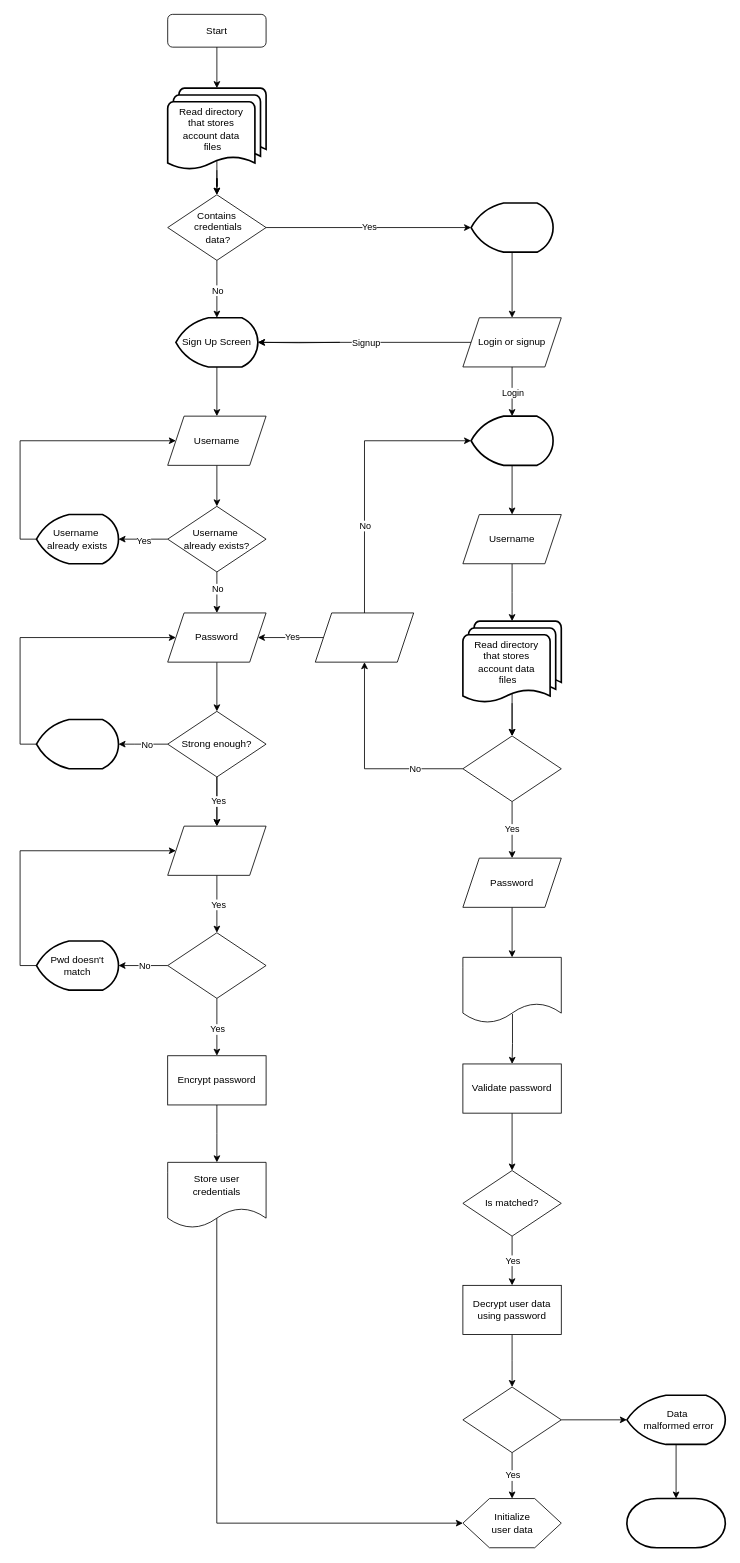
Image size: 740x1563. Some labels were removed from this diagram. The centre of each missing label's shape, as x and y in pixels:
Auth Screen: point (512, 227)
Confirm password: point (216, 850)
Create user?: point (364, 637)
End: point (676, 1522)
Fetch password hash from corresponding user credentials file: point (511, 990)
Login Screen: point (512, 440)
Password matched?: point (216, 965)
Pwd not strong enough: point (77, 743)
Success?: point (511, 1419)
Username exists?: point (511, 768)
